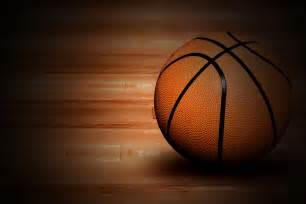basketball: (152, 30, 294, 168)
